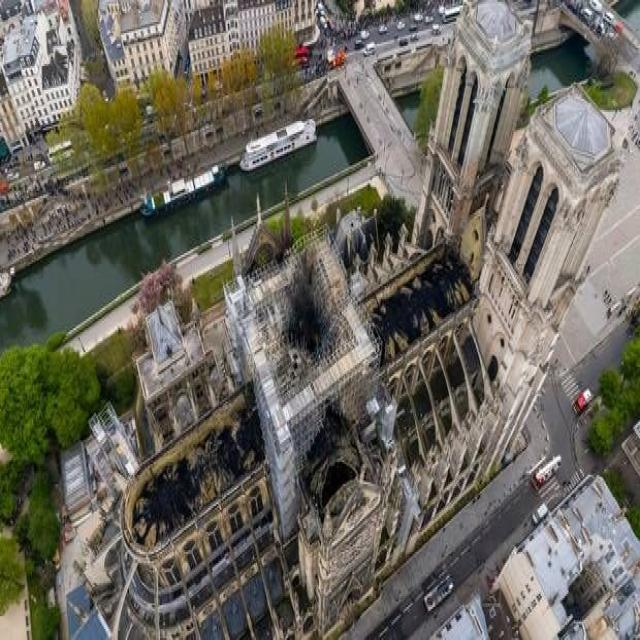collapsed_building: (125, 213, 511, 574)
